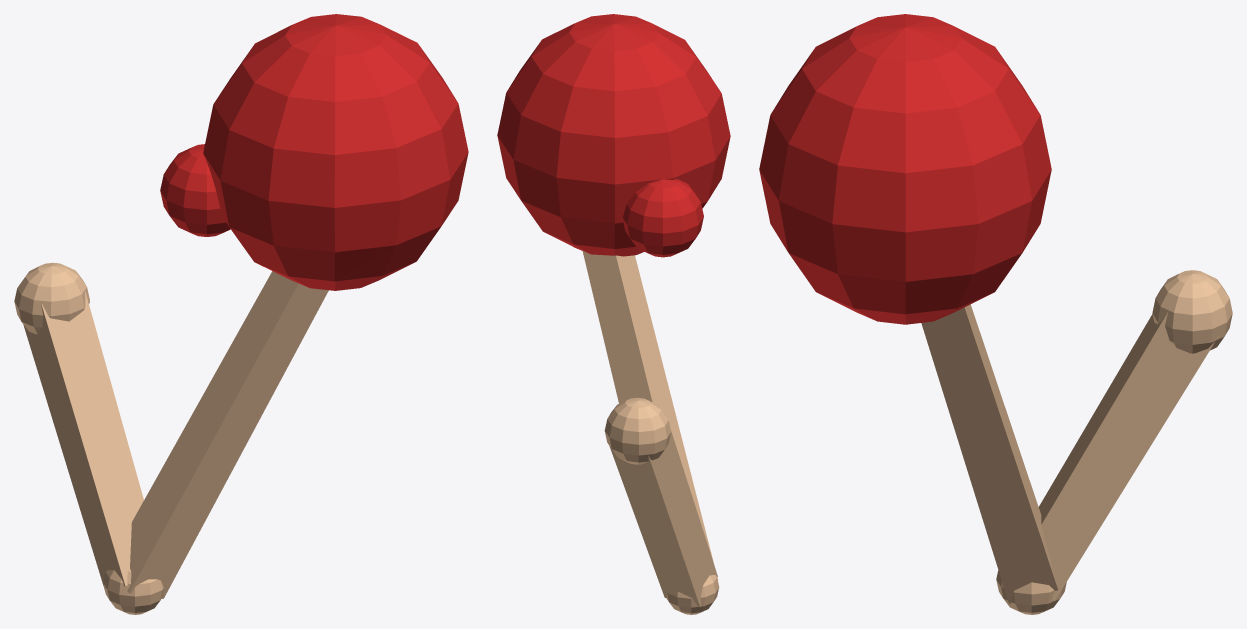
The model's file is boxeador_torpe_right_arm.obj.
The picture shows the model from 3 angles, left to right: view 1: azimuth 30°, elevation 25°; view 2: azimuth 150°, elevation 25°; view 3: azimuth 270°, elevation 25°; orthographic projection. The views are drawn at different scales.
Parts seen in each view (by area): view 1: guante_R, antebrazo_R, brazo_R, pulgar_R, hombro_R, codo_R; view 2: guante_R, antebrazo_R, brazo_R, pulgar_R, hombro_R, codo_R; view 3: guante_R, brazo_R, antebrazo_R, hombro_R, codo_R.
Boxes of the visible parts, x1,y1,x2,y2 form: guante_R: (203,14,468,290); antebrazo_R: (127,271,328,598); brazo_R: (23,291,143,588); pulgar_R: (160,144,230,236); hombro_R: (14,262,89,334); codo_R: (103,568,163,614); guante_R: (497,14,730,256); antebrazo_R: (582,251,717,579); brazo_R: (608,431,717,606); pulgar_R: (622,179,703,257); hombro_R: (604,397,671,464); codo_R: (666,574,719,614); guante_R: (759,14,1051,324); brazo_R: (1038,312,1217,600); antebrazo_R: (921,304,1058,603); hombro_R: (1152,270,1232,353); codo_R: (996,570,1066,614).
Bounding box in the file's own units: 0.685 × 1.27 × 0.8248.
